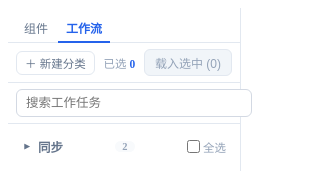
Test case: INC4-FE-4 工作流目录树（三分类收窄 + 行操作 RED 降级） › 目录全选 toggle：.pal-all change → toggleAll 计数 + 行 .on 态 + 载入按钮 disabled 随动
expect the button "载入选中 (0)" is disabled: met, box [144, 49, 232, 76]
What coordinates should you click on to do the following:
click the checkbox labelled "全选"
I would click on:
 (194, 146)
Its box is [187, 140, 200, 153].
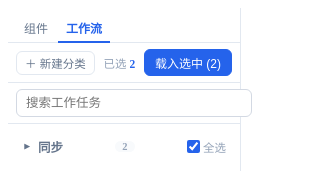
expect the text "2" next to "已选" is shown: met, box [129, 58, 135, 70]
expect the button "载入选中 (2)" is enabled: met, box [144, 49, 232, 76]
What coordinates should you click on to do the following:
click the checkbox labelled "全选"
I would click on:
 (194, 146)
Its box is [187, 140, 200, 153].
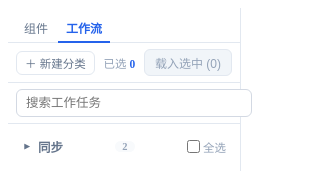
expect the text "0" is shown: met, box [129, 58, 135, 70]
expect the button "载入选中 (0)" is disabled: met, box [144, 49, 232, 76]
